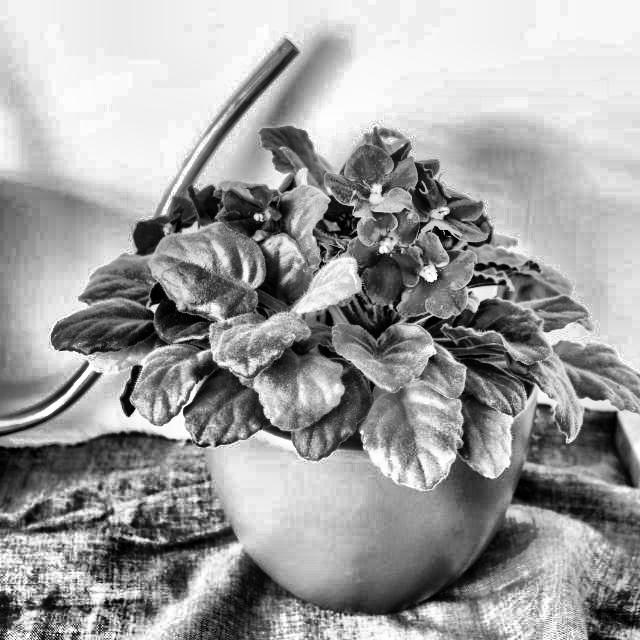plants: (175, 185, 602, 425)
